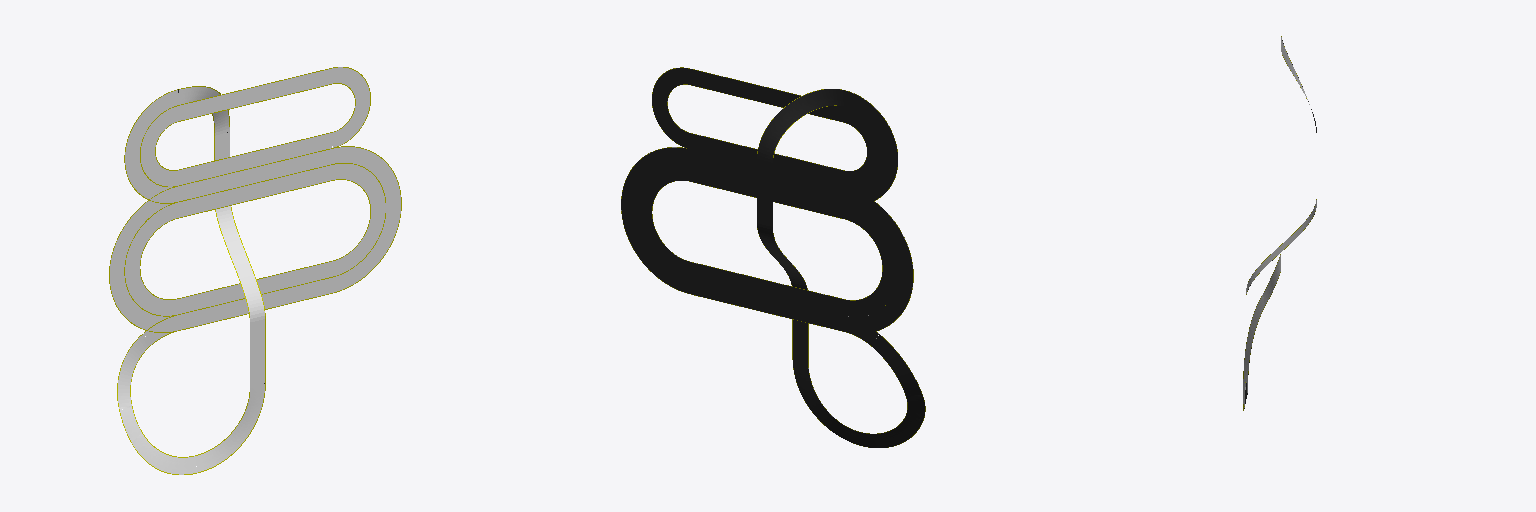
Rendered from circuit_road.obj.
3 views of the same model, side by side, from view 1: azimuth 30°, elevation 25°; view 2: azimuth 150°, elevation 25°; view 3: azimuth 270°, elevation 25° (orthographic).
Bounding box in the file's own units: 95.23 × 115 × 20.77.